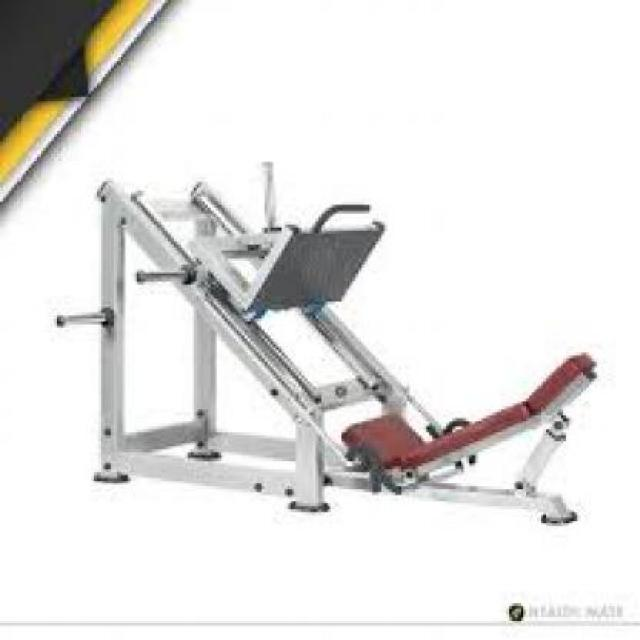leg press: (60, 165, 583, 546)
